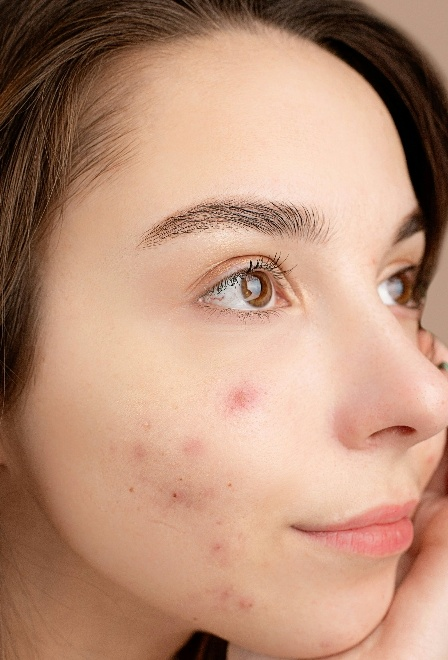papule: (225, 381, 262, 427), (176, 430, 214, 461), (126, 432, 150, 466)
